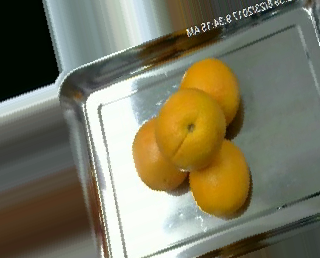Orange: (155, 88, 226, 170), (188, 137, 250, 216), (131, 116, 190, 191), (179, 56, 238, 125)
